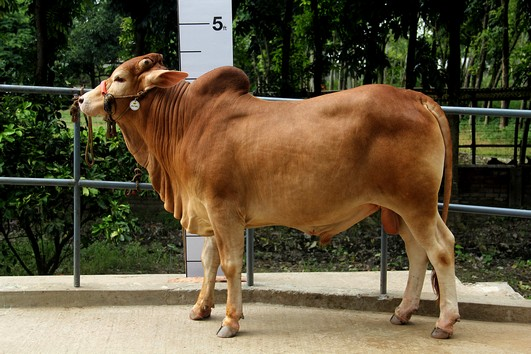cow: (70, 48, 465, 345)
